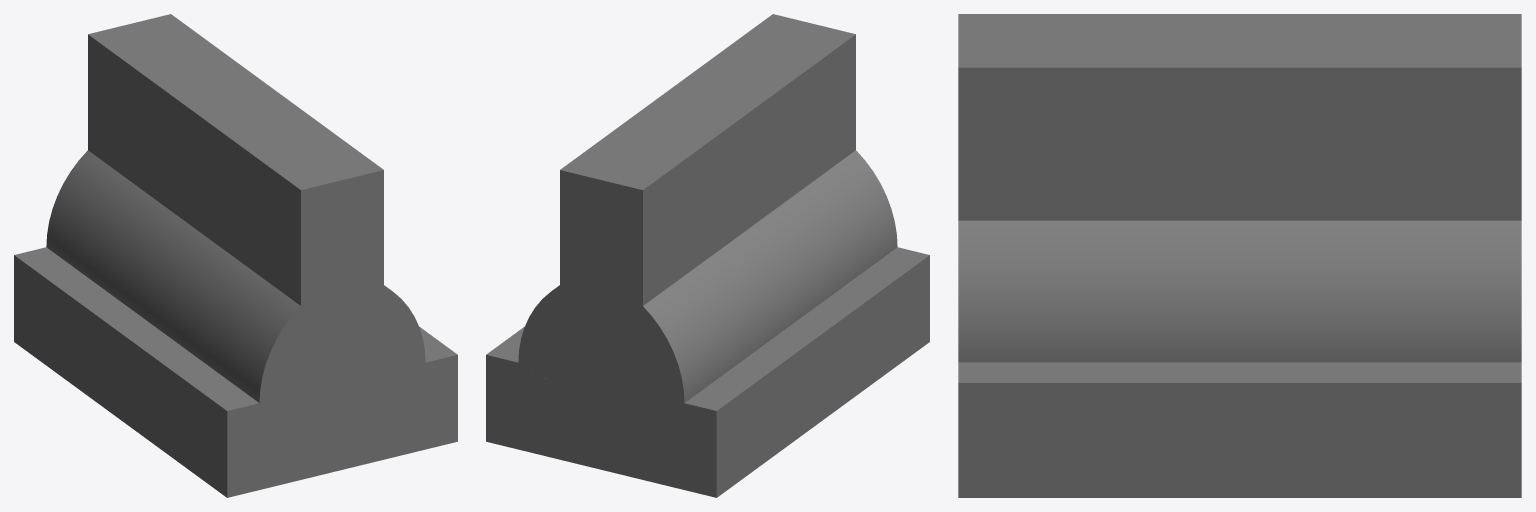
3 views of the same model, side by side, from view 1: azimuth 30°, elevation 25°; view 2: azimuth 150°, elevation 25°; view 3: azimuth 270°, elevation 25° (orthographic). The views are drawn at different scales.
Parts seen in each view (by area): view 1: mesh_id4, mesh_id5; view 2: mesh_id4, mesh_id5; view 3: mesh_id4, mesh_id5.
Boxes of the visible parts, box(x1,y1,x2,y2) form: mesh_id4: box(14, 14, 457, 497); mesh_id5: box(46, 150, 425, 404); mesh_id4: box(486, 14, 929, 497); mesh_id5: box(518, 150, 897, 404); mesh_id4: box(958, 14, 1521, 497); mesh_id5: box(958, 220, 1521, 362).
Size of the model in its own units: 0.4267 by 0.512 by 0.6827.
Materials: 2 (2 with a texture image).
